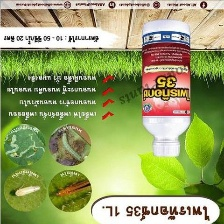insecticide: (139, 17, 196, 159)
